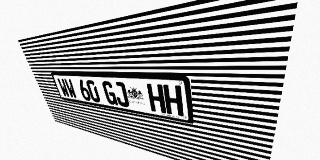0: (85, 80, 101, 103)
6: (77, 79, 92, 101)
G: (101, 81, 118, 106)
H: (163, 84, 184, 116), (146, 83, 166, 113)
J: (112, 81, 130, 107)
W: (63, 79, 78, 99), (57, 78, 71, 98)
